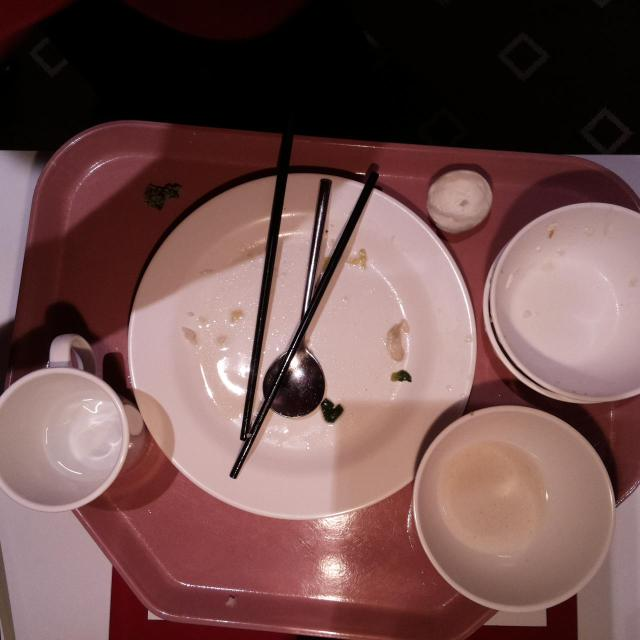Egg-shell: (425, 169, 495, 233)
